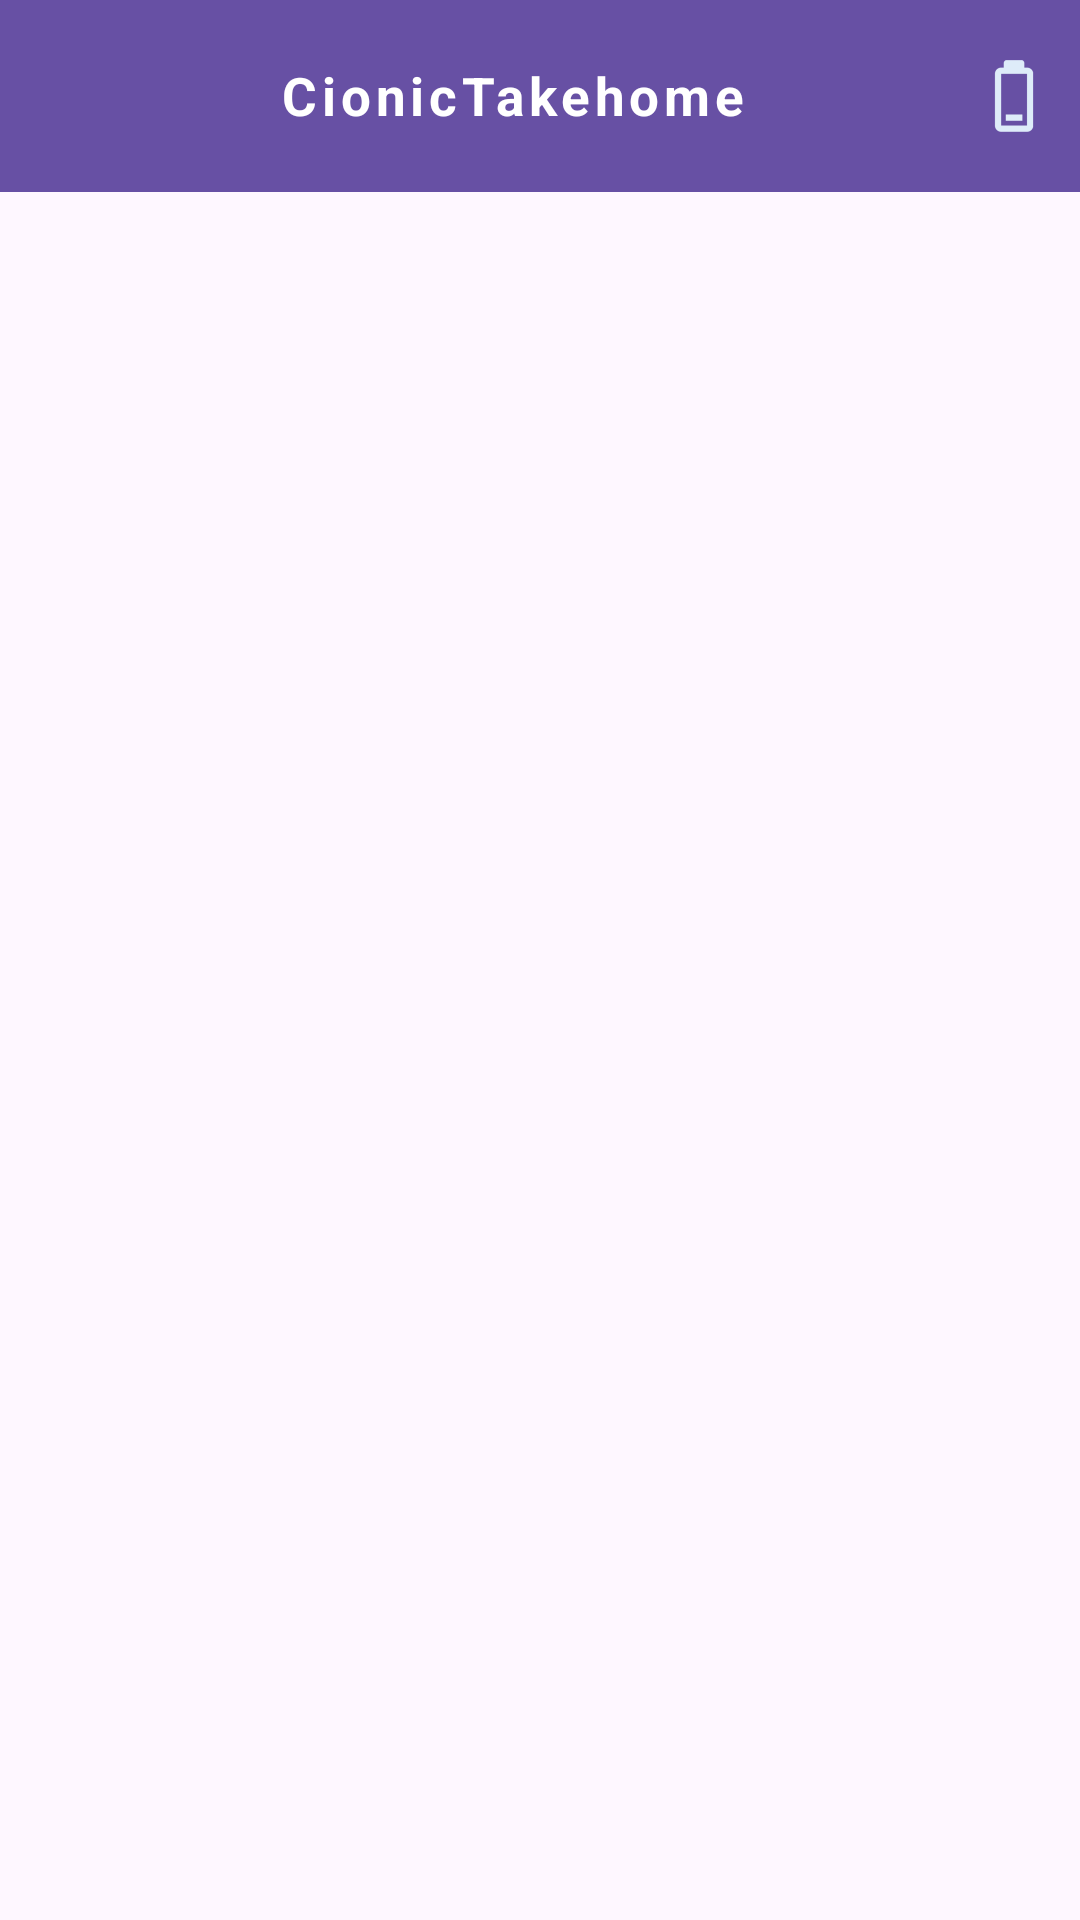

Point at icon controls on the screen. Image size 1080 x 1920, points as point (x, y).
battery: point (1014, 96)
